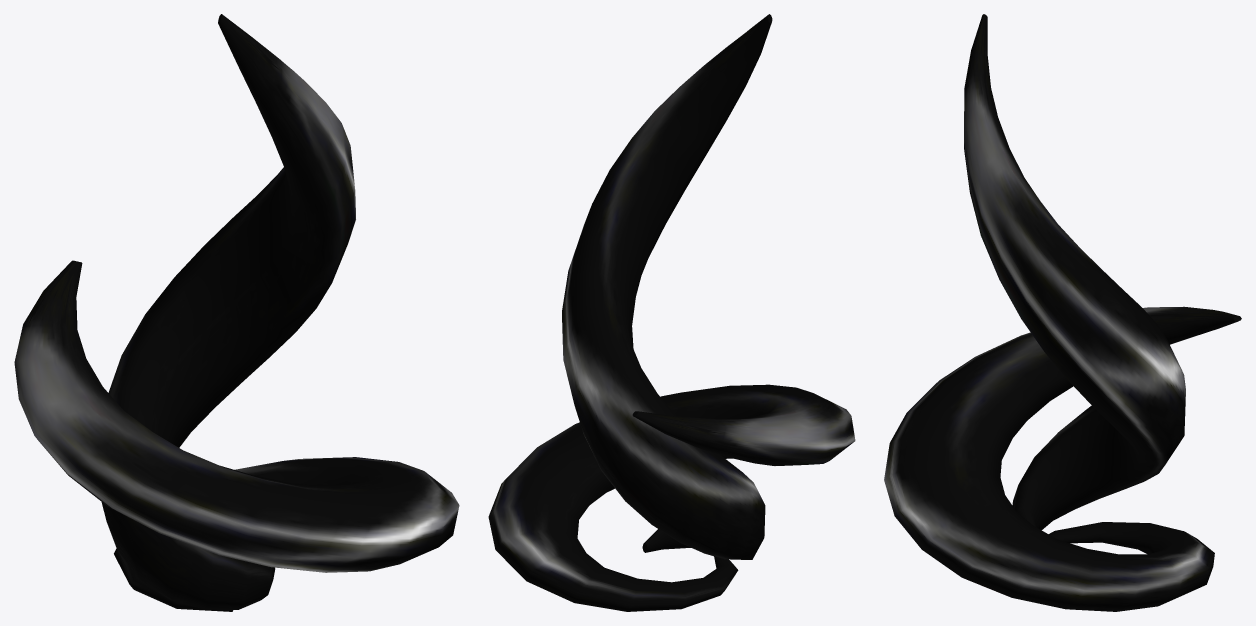
The model's file is Effect_1191_2bigskill_S.fbx.
3 renders of one model, left to right at view 1: azimuth 30°, elevation 25°; view 2: azimuth 150°, elevation 25°; view 3: azimuth 270°, elevation 25°, orthographic. The views are drawn at different scales.
Parts seen in each view (by area): view 1: XF_01, XF_01 (1); view 2: XF_01, XF_01 (1); view 3: XF_01 (1), XF_01.
Boxes of the visible parts, box(x1,y1,x2,y2) form: XF_01: box(101, 14, 355, 609); XF_01 (1): box(14, 260, 459, 611); XF_01: box(562, 14, 772, 559); XF_01 (1): box(488, 384, 855, 611); XF_01 (1): box(884, 306, 1241, 611); XF_01: box(964, 14, 1185, 530).
Size of the model in its own units: 2.04 by 3.18 by 1.96.
Materials: 1 (1 with a texture image).
